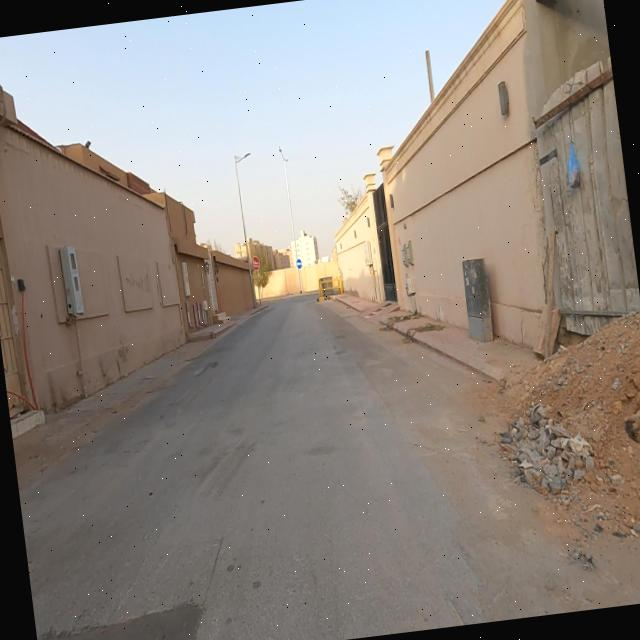Graffiti: (123, 268, 152, 297)
